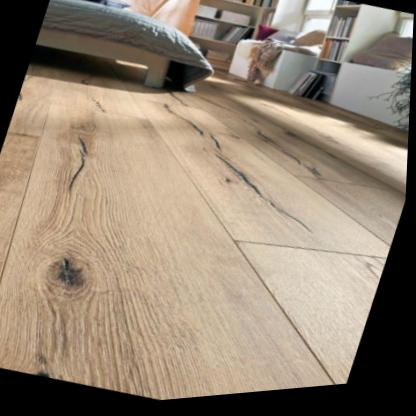Wooden floor: (0, 75, 410, 403)
